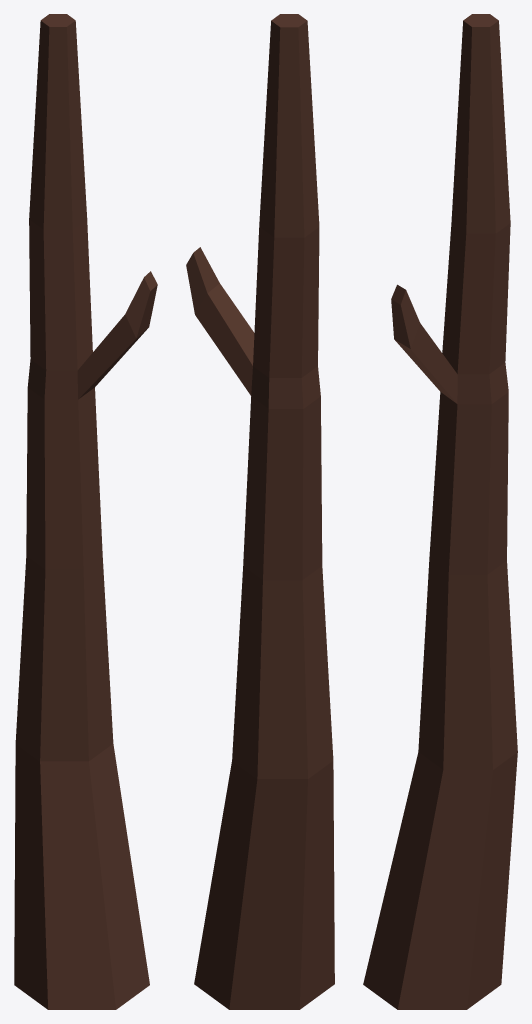
File: treetrunk1.fbx
3 views of the same model, side by side, from view 1: azimuth 30°, elevation 25°; view 2: azimuth 210°, elevation 25°; view 3: azimuth 270°, elevation 25° (orthographic). The views are drawn at different scales.
Visible parts, largest first — view 1: Cylinder; view 2: Cylinder; view 3: Cylinder.
Boxes of the visible parts, x1,y1,x2,y2 form: Cylinder: (14,14,157,1009); Cylinder: (186,14,334,1009); Cylinder: (363,14,517,1009).
Size of the model in its own units: 23.14 by 189 by 27.43.
